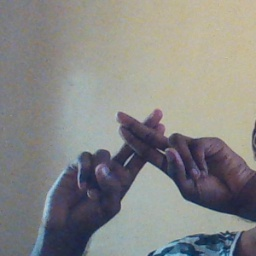F: (82, 104, 211, 197)
